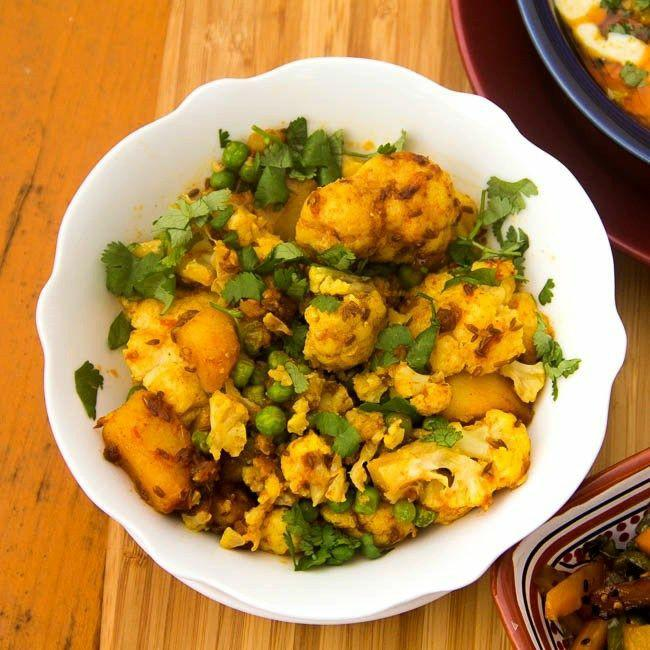AlooGobi: (99, 118, 579, 568)
